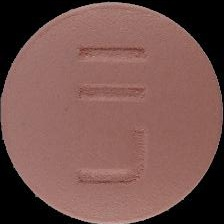33342-060: (0, 0, 224, 224)
